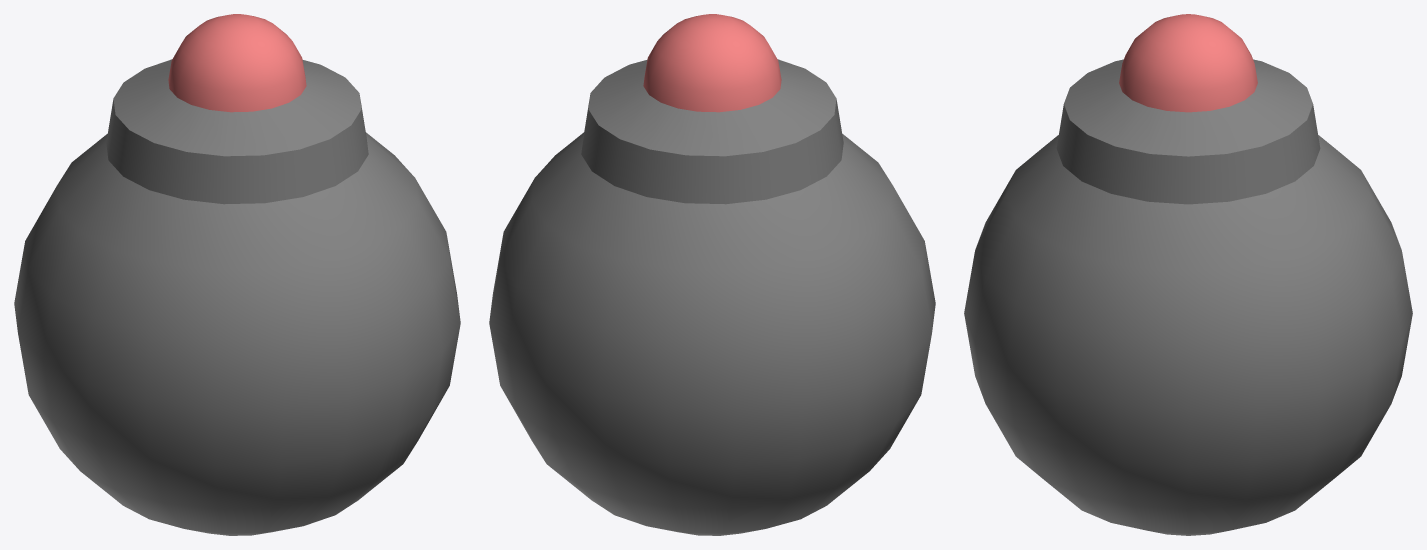
The model's file is bomb.fbx.
The picture shows the model from 3 angles, left to right: view 1: azimuth 30°, elevation 25°; view 2: azimuth 150°, elevation 25°; view 3: azimuth 270°, elevation 25°; orthographic projection.
Parts seen in each view (by area): view 1: _Sphere001; view 2: _Sphere001; view 3: _Sphere001.
Boxes of the visible parts, x1,y1,x2,y2 form: _Sphere001: (14,14,460,535); _Sphere001: (489,14,935,535); _Sphere001: (964,14,1412,535).
Size of the model in its own units: 6.34 by 7.74 by 6.34.
